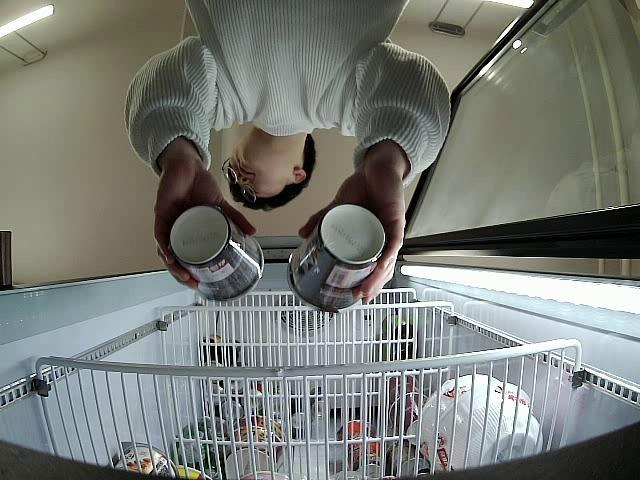08_buldak_S: (288, 202, 387, 313), (168, 207, 264, 301)
